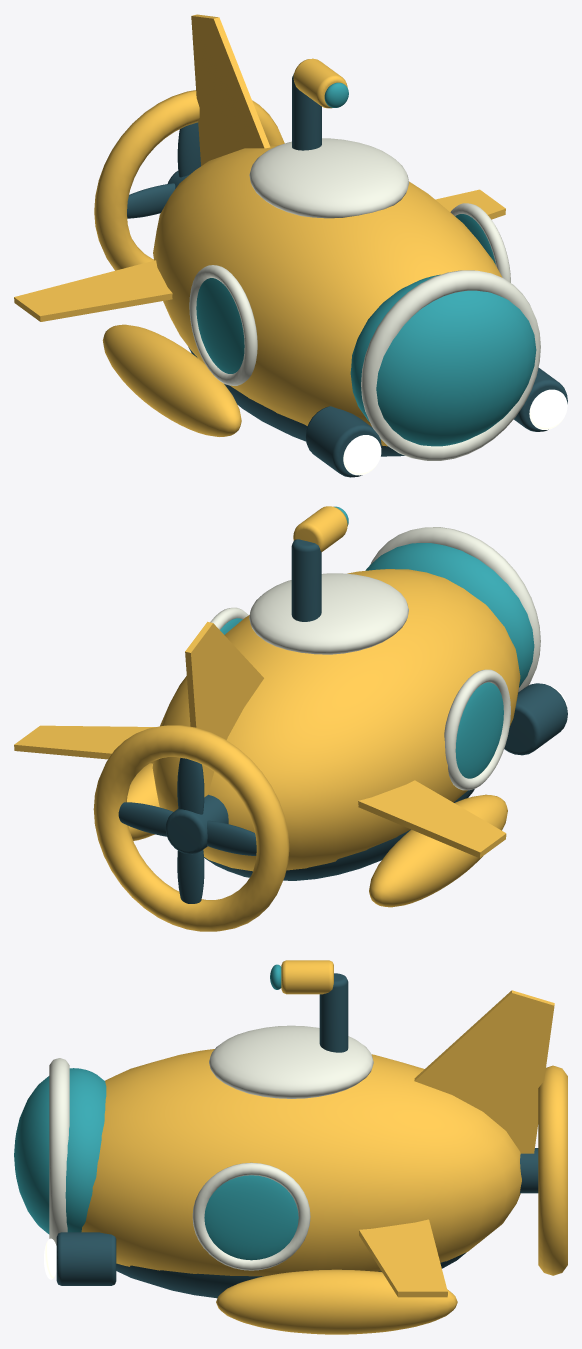
The model's file is submarine.glb.
3 views of the same model, one above another, from view 1: azimuth 30°, elevation 25°; view 2: azimuth 150°, elevation 25°; view 3: azimuth 270°, elevation 25° (orthographic). The views are drawn at different scales.
Visible parts, largest first — view 1: Pressure hull, Front viewport, Hatch, Side ballast, Viewport rim, Propeller shroud, Tail fin, Diving plane, Side porthole, Side rim, Lamp housing, Periscope (+9 smaller); view 2: Pressure hull, Propeller shroud, Hatch, Side ballast, Tail fin, Front viewport, Diving plane, Viewport rim, Side porthole, Lamp housing, Diving plane.001, Side rim (+9 smaller); view 3: Pressure hull, Tail fin, Side ballast.001, Front viewport, Hatch, Side porthole.001, Propeller shroud, Diving plane.001, Side rim.001, Viewport rim, Lamp housing.001, Underside (+3 smaller).
Boxes of the visible parts, bbox=[...] form: Pressure hull: bbox=[153, 145, 502, 446]; Front viewport: bbox=[350, 274, 536, 446]; Hatch: bbox=[249, 138, 409, 218]; Side ballast: bbox=[102, 324, 241, 436]; Viewport rim: bbox=[361, 270, 540, 460]; Propeller shroud: bbox=[94, 90, 284, 270]; Tail fin: bbox=[191, 14, 270, 165]; Diving plane: bbox=[14, 260, 172, 321]; Side porthole: bbox=[196, 278, 244, 373]; Side rim: bbox=[189, 265, 257, 385]; Lamp housing: bbox=[305, 406, 381, 477]; Periscope: bbox=[292, 74, 321, 150]; Pressure hull: bbox=[152, 569, 520, 871]; Propeller shroud: bbox=[93, 725, 289, 931]; Hatch: bbox=[249, 573, 408, 654]; Side ballast: bbox=[369, 794, 507, 907]; Tail fin: bbox=[185, 621, 263, 797]; Front viewport: bbox=[365, 543, 534, 687]; Diving plane: bbox=[358, 780, 506, 858]; Viewport rim: bbox=[370, 527, 540, 692]; Side porthole: bbox=[455, 682, 503, 778]; Lamp housing: bbox=[504, 683, 567, 755]; Diving plane.001: bbox=[14, 725, 155, 763]; Side rim: bbox=[444, 669, 510, 790]; Pressure hull: bbox=[81, 1049, 521, 1276]; Tail fin: bbox=[414, 990, 554, 1153]; Side ballast.001: bbox=[216, 1269, 457, 1334]; Front viewport: bbox=[14, 1068, 106, 1234]; Hatch: bbox=[209, 1025, 373, 1098]; Side porthole.001: bbox=[204, 1175, 298, 1260]; Propeller shroud: bbox=[538, 1065, 567, 1275]; Diving plane.001: bbox=[359, 1219, 447, 1297]; Side rim.001: bbox=[192, 1162, 310, 1270]; Viewport rim: bbox=[49, 1058, 69, 1245]; Lamp housing.001: bbox=[56, 1232, 116, 1285]; Underside: bbox=[116, 1252, 466, 1298].
Size of the model in its own units: 3.6 by 2.5 by 3.89.
